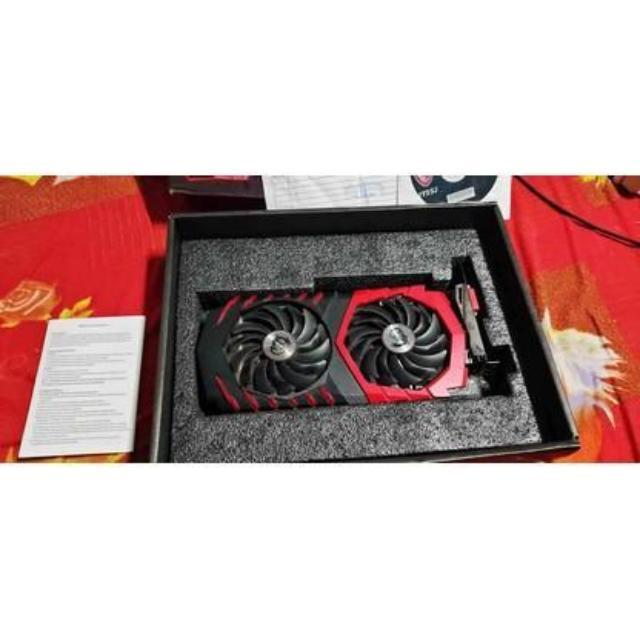GPU: (203, 271, 495, 420)
